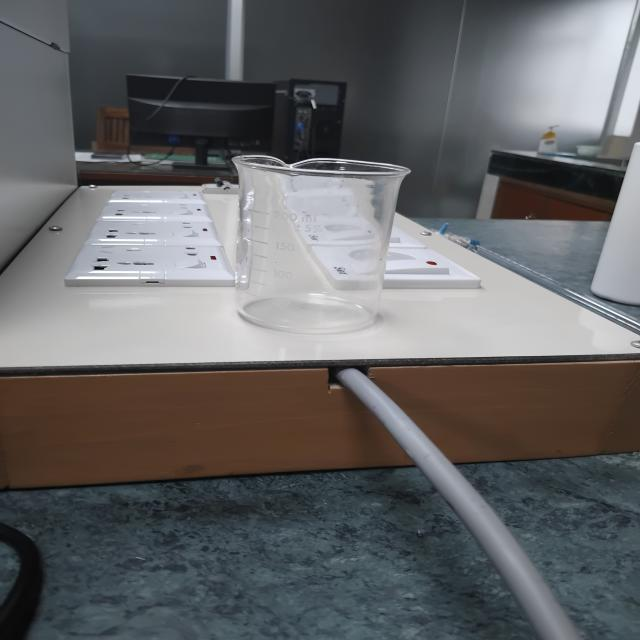Beaker: (186, 113, 423, 341)
